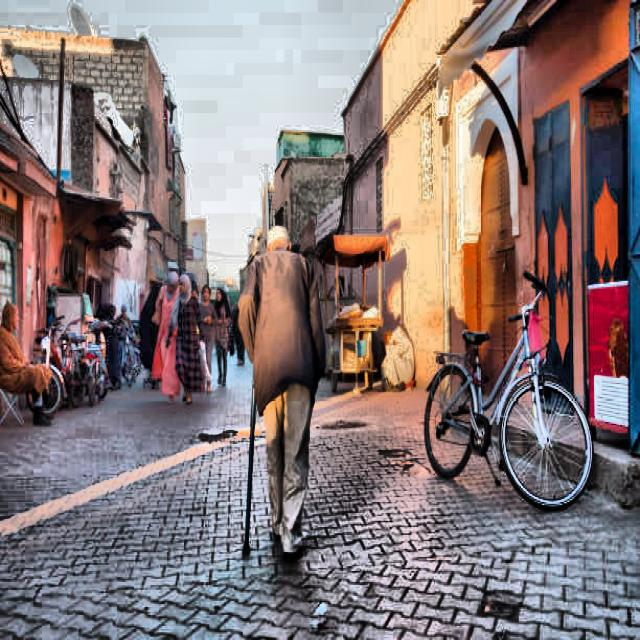Human: (240, 226, 340, 595), (148, 263, 204, 419), (211, 279, 231, 393)
